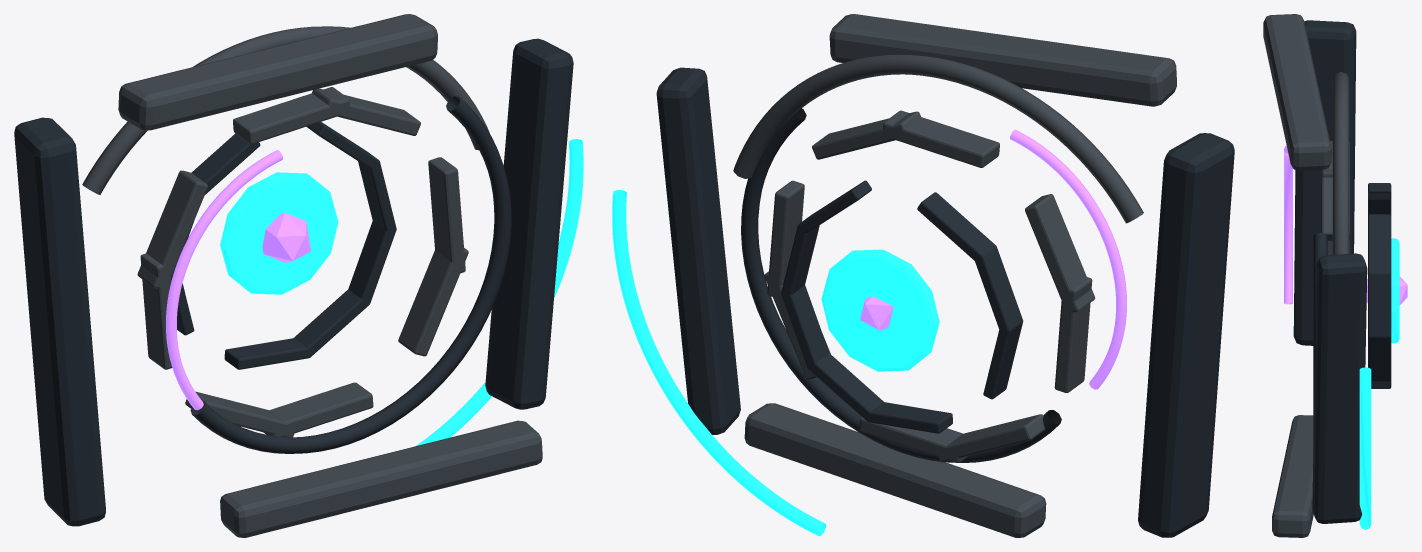
Rendered from world-gate.glb.
3 views of the same model, side by side, from view 1: azimuth 30°, elevation 25°; view 2: azimuth 150°, elevation 25°; view 3: azimuth 270°, elevation 25° (orthographic). The views are drawn at different scales.
Parts seen in each view (by area): view 1: BC_ENV_WORLD_GATE_BLACK_TITANIUM, BC_ENV_WORLD_GATE_GUNMETAL, BC_ENV_WORLD_GATE_CYAN_ENERGY, BC_ENV_WORLD_GATE_VIOLET_ENERGY; view 2: BC_ENV_WORLD_GATE_BLACK_TITANIUM, BC_ENV_WORLD_GATE_GUNMETAL, BC_ENV_WORLD_GATE_CYAN_ENERGY, BC_ENV_WORLD_GATE_VIOLET_ENERGY; view 3: BC_ENV_WORLD_GATE_BLACK_TITANIUM, BC_ENV_WORLD_GATE_GUNMETAL, BC_ENV_WORLD_GATE_CYAN_ENERGY, BC_ENV_WORLD_GATE_VIOLET_ENERGY.
Part boxes in pixels (x1,y1,x2,y2): BC_ENV_WORLD_GATE_BLACK_TITANIUM: [14, 38, 573, 526]; BC_ENV_WORLD_GATE_GUNMETAL: [82, 14, 542, 537]; BC_ENV_WORLD_GATE_CYAN_ENERGY: [220, 139, 583, 445]; BC_ENV_WORLD_GATE_VIOLET_ENERGY: [166, 150, 310, 410]; BC_ENV_WORLD_GATE_BLACK_TITANIUM: [656, 67, 1234, 537]; BC_ENV_WORLD_GATE_GUNMETAL: [733, 14, 1176, 537]; BC_ENV_WORLD_GATE_CYAN_ENERGY: [612, 190, 939, 535]; BC_ENV_WORLD_GATE_VIOLET_ENERGY: [860, 129, 1126, 389]; BC_ENV_WORLD_GATE_BLACK_TITANIUM: [1293, 20, 1391, 523]; BC_ENV_WORLD_GATE_GUNMETAL: [1263, 14, 1349, 537]; BC_ENV_WORLD_GATE_CYAN_ENERGY: [1359, 238, 1399, 529]; BC_ENV_WORLD_GATE_VIOLET_ENERGY: [1284, 146, 1407, 304].
Size of the model in its own units: 8.3 by 6.84 by 2.25.
